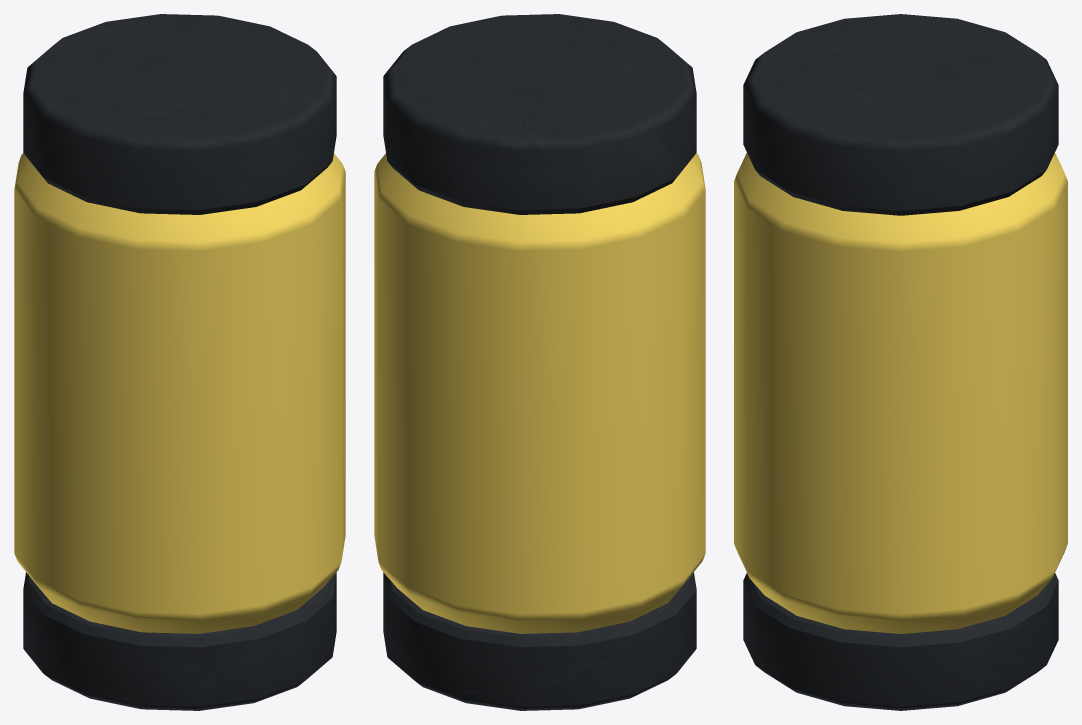
The model's file is Lamp_2.fbx.
3 views of the same model, side by side, from view 1: azimuth 30°, elevation 25°; view 2: azimuth 150°, elevation 25°; view 3: azimuth 270°, elevation 25° (orthographic).
Parts seen in each view (by area): view 1: Lamp_2; view 2: Lamp_2; view 3: Lamp_2.
Boxes of the visible parts, bbox=[...] form: Lamp_2: bbox=[14, 14, 345, 710]; Lamp_2: bbox=[374, 14, 705, 710]; Lamp_2: bbox=[734, 14, 1067, 710].
Size of the model in its own units: 20.63 by 39.01 by 20.63.
